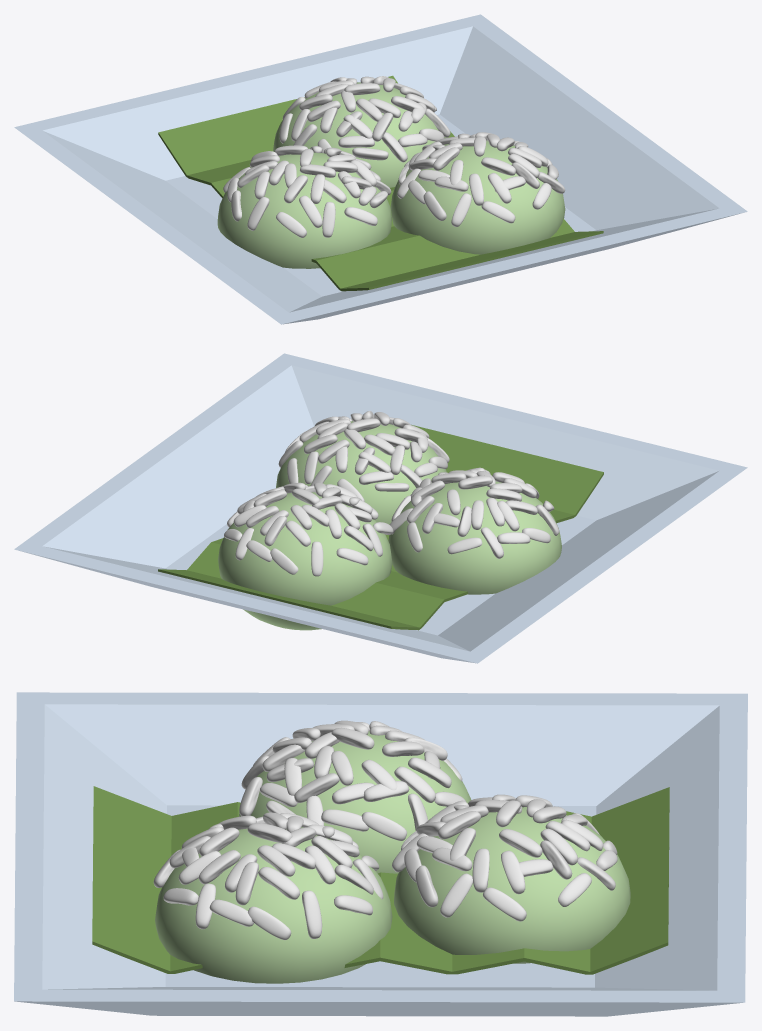
The model's file is ondehEat.fbx.
3 views of the same model, one above another, from view 1: azimuth 30°, elevation 25°; view 2: azimuth 150°, elevation 25°; view 3: azimuth 270°, elevation 25° (orthographic). The views are drawn at different scales.
Visible parts, largest first — view 1: Cube.002, Cube.036, Sphere.047, Sphere.045, Sphere.068, Sphere.046, Sphere.048, Sphere.044; view 2: Cube.002, Cube.036, Sphere.045, Sphere.044, Sphere.068, Sphere.048, Sphere.046, Sphere.047; view 3: Cube.002, Cube.036, Sphere.047, Sphere.044, Sphere.048, Sphere.046, Sphere.068, Sphere.045.
Boxes of the visible parts, bbox=[...] form: Cube.002: bbox=[14, 14, 747, 324]; Cube.036: bbox=[158, 75, 603, 291]; Sphere.047: bbox=[390, 140, 565, 254]; Sphere.045: bbox=[217, 152, 391, 268]; Sphere.068: bbox=[279, 76, 450, 162]; Sphere.046: bbox=[223, 145, 391, 237]; Sphere.048: bbox=[397, 132, 565, 226]; Sphere.044: bbox=[273, 82, 445, 187]; Cube.002: bbox=[14, 353, 747, 663]; Cube.036: bbox=[158, 424, 603, 630]; Sphere.045: bbox=[388, 481, 561, 594]; Sphere.044: bbox=[218, 492, 392, 630]; Sphere.068: bbox=[224, 482, 393, 576]; Sphere.048: bbox=[278, 411, 449, 501]; Sphere.046: bbox=[389, 467, 559, 558]; Sphere.047: bbox=[276, 421, 446, 524]; Cube.002: bbox=[14, 692, 747, 1016]; Cube.036: bbox=[92, 786, 669, 974]; Sphere.047: bbox=[155, 827, 392, 983]; Sphere.044: bbox=[394, 807, 630, 963]; Sphere.048: bbox=[153, 812, 383, 940]; Sphere.046: bbox=[239, 720, 465, 840]; Sphere.068: bbox=[392, 794, 617, 921]; Sphere.045: bbox=[238, 731, 471, 873].
Size of the model in its own units: 178 by 45.91 by 178.
